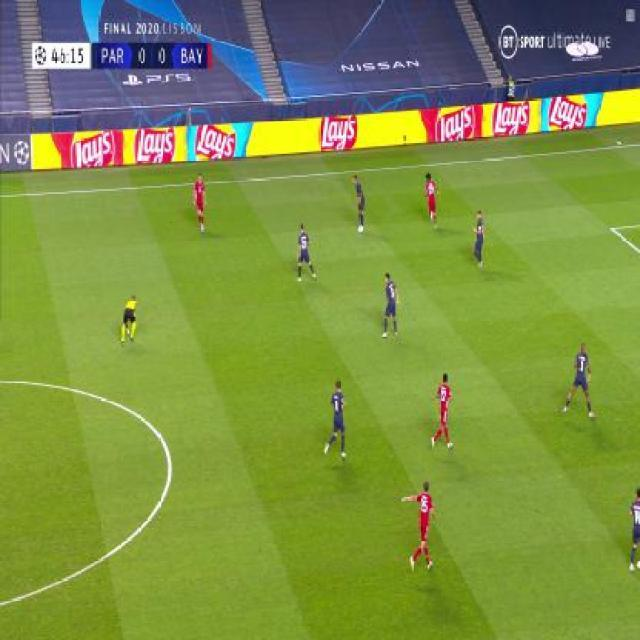ball: (200, 225, 205, 234)
player: (560, 342, 597, 424), (406, 481, 437, 575), (324, 379, 349, 464), (430, 372, 455, 451), (295, 223, 318, 283), (379, 271, 399, 340), (422, 172, 441, 228), (120, 291, 139, 345), (628, 485, 639, 576), (191, 172, 207, 234), (470, 208, 486, 268), (351, 174, 367, 234)
